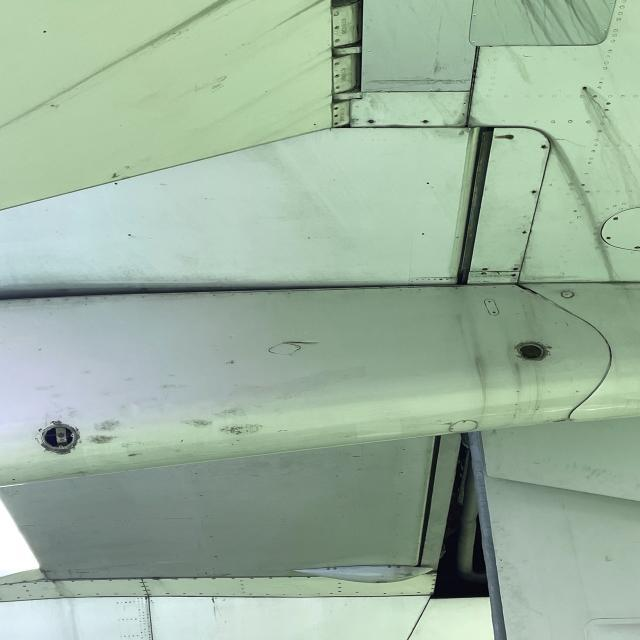crack: (280, 339, 328, 351)
